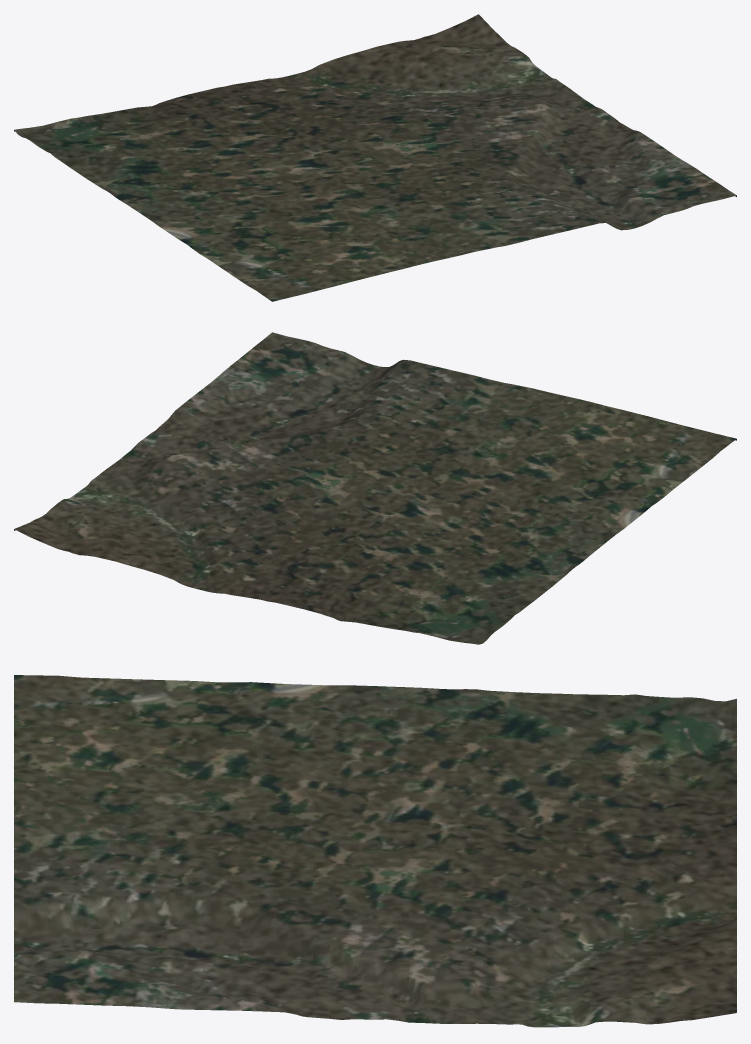
3 renders of one model, top to bottom at view 1: azimuth 30°, elevation 25°; view 2: azimuth 150°, elevation 25°; view 3: azimuth 270°, elevation 25°, orthographic. The views are drawn at different scales.
Size of the model in its own units: 250 by 17.04 by 241.
1 material, 1 textured.
